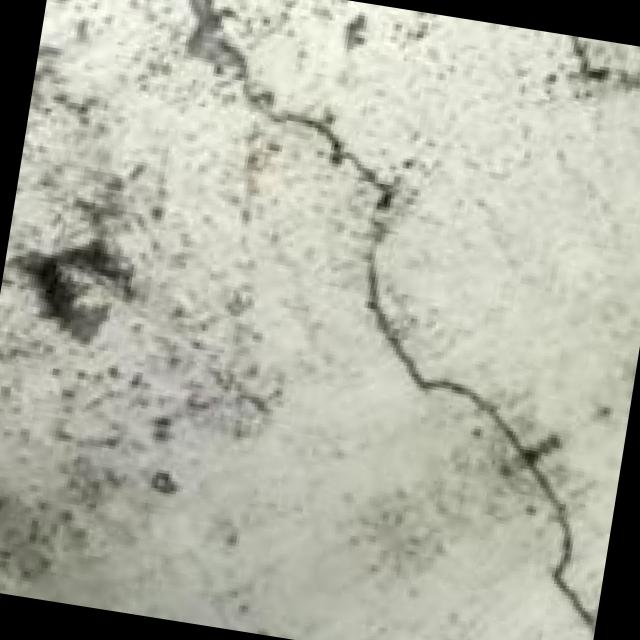crack: (175, 17, 640, 640)
